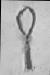S34: (4, 0, 46, 74)
